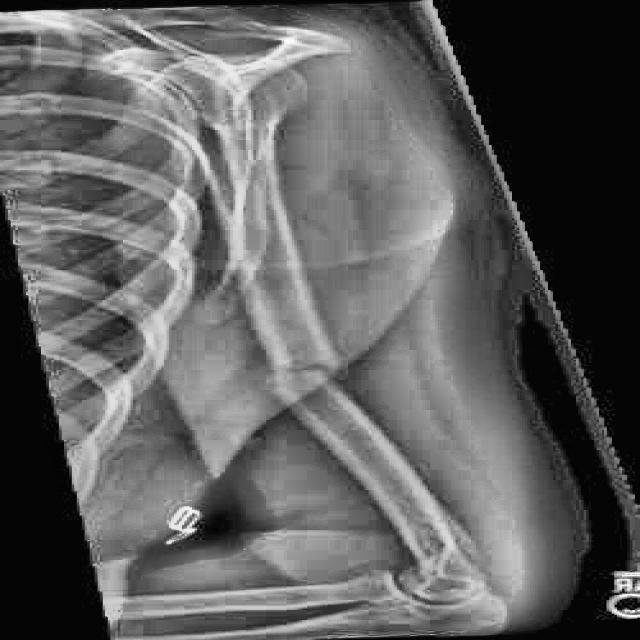humerus: (230, 302, 424, 466)
